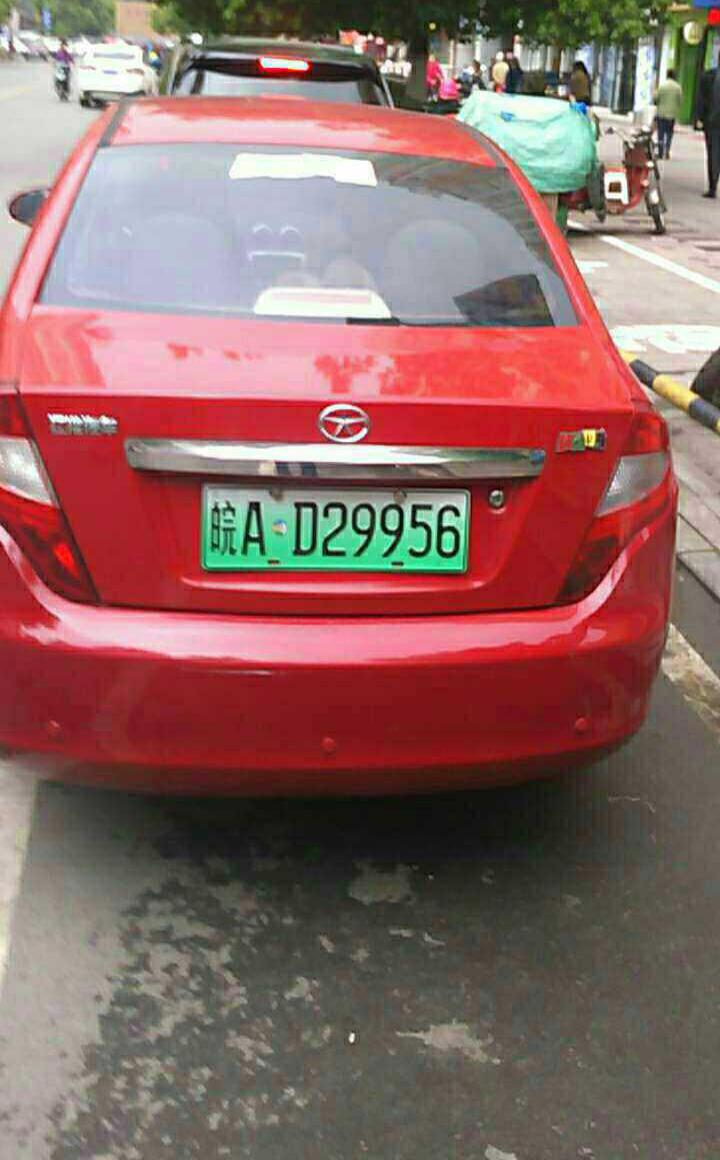car: (184, 476, 481, 582)
